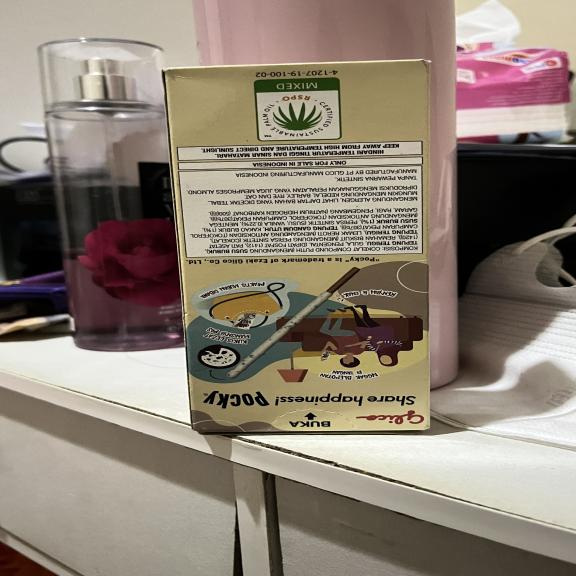Kertas: (163, 57, 437, 436)
